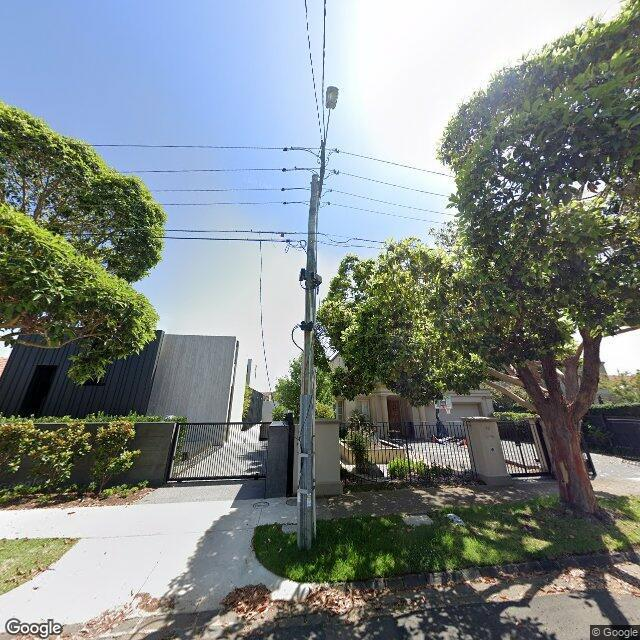crossarm: (319, 140, 326, 199)
streetlight: (322, 86, 338, 145)
timber-pole: (296, 173, 319, 552)
